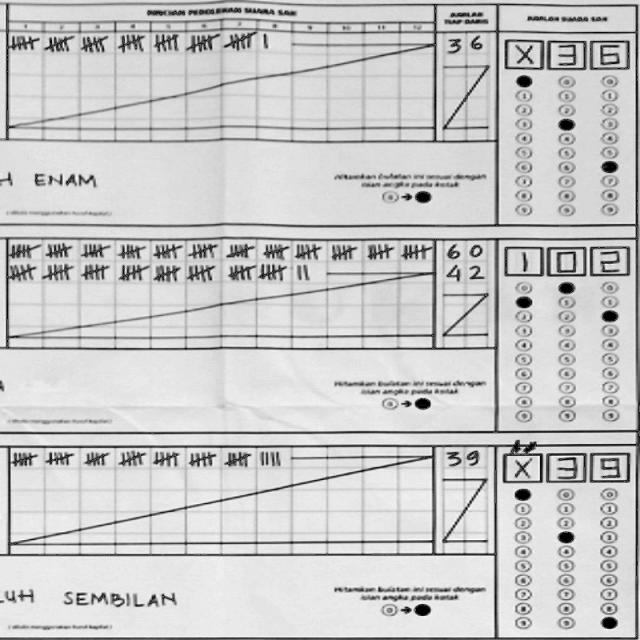Suara: (496, 445, 627, 491), (497, 240, 628, 281), (496, 33, 630, 69)
